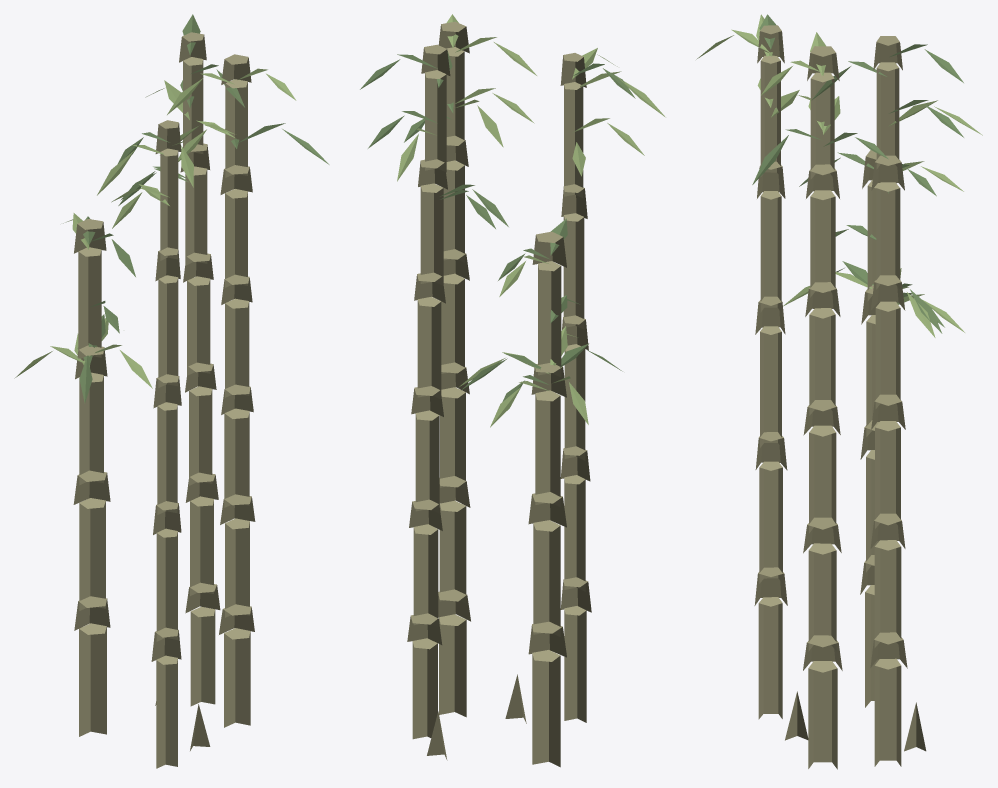
Rendered from hua.zhu@subadult__summer.glb.
The picture shows the model from 3 angles, left to right: view 1: azimuth 30°, elevation 25°; view 2: azimuth 150°, elevation 25°; view 3: azimuth 270°, elevation 25°; orthographic projection. The views are drawn at different scales.
Visible parts, largest first — view 1: hua.zhu@subadult__summer; view 2: hua.zhu@subadult__summer; view 3: hua.zhu@subadult__summer.
Part boxes in pixels (left/top/right/bottom): hua.zhu@subadult__summer: left=14, top=14, right=329, bottom=768; hua.zhu@subadult__summer: left=360, top=14, right=665, bottom=767; hua.zhu@subadult__summer: left=696, top=14, right=982, bottom=769.
Size of the model in its own units: 1.11 by 3.02 by 1.09.
